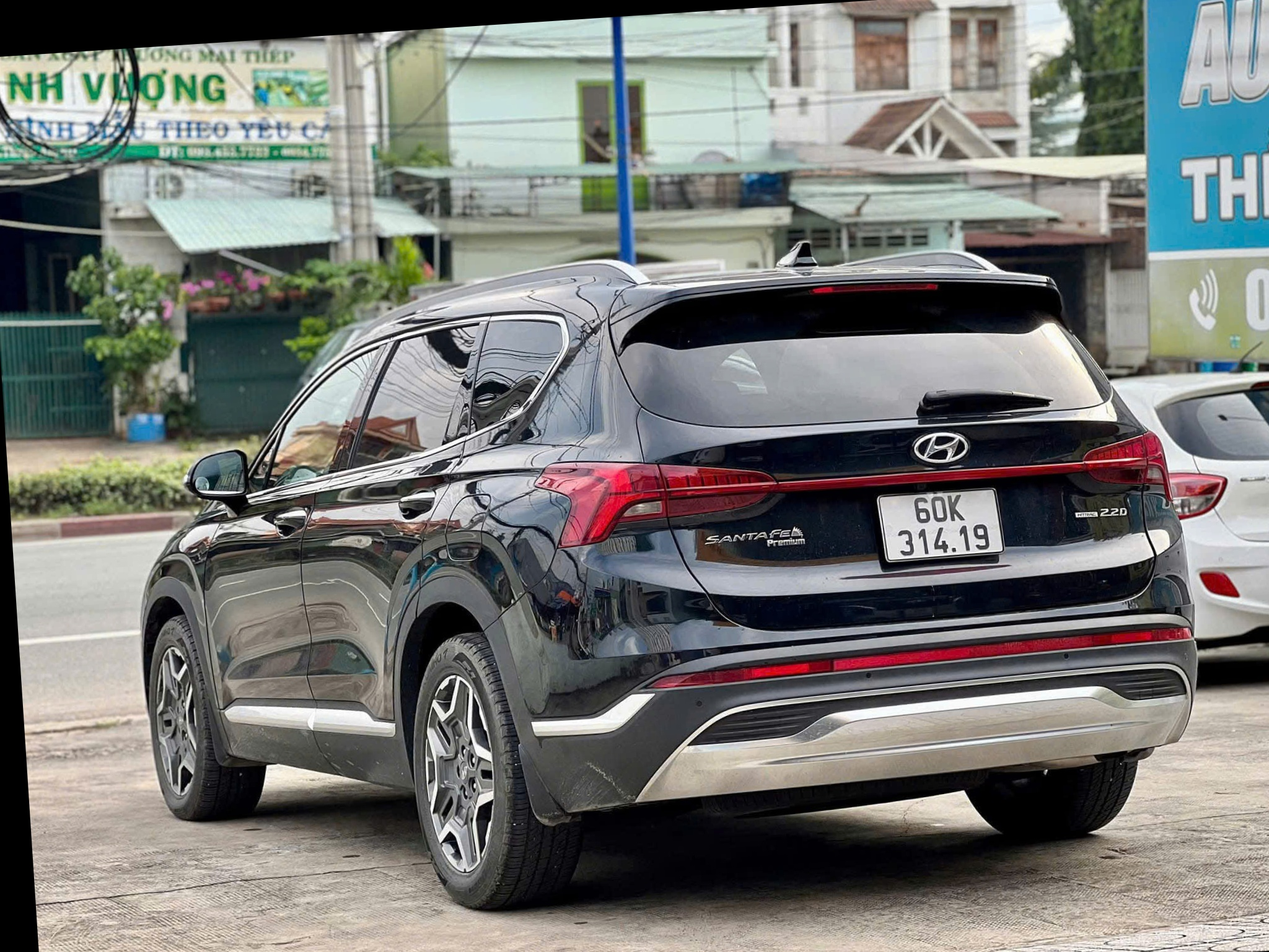Bien-so: (817, 464, 939, 544)
